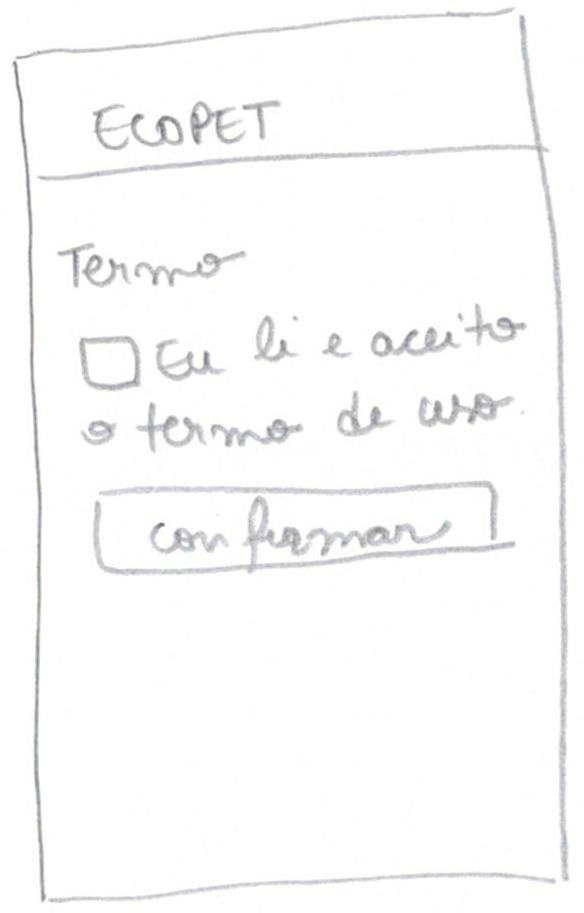Button: (91, 480, 497, 576)
CheckBox: (78, 301, 528, 450)
Label: (92, 98, 282, 152), (59, 237, 248, 290)
Screen: (11, 10, 569, 903)
